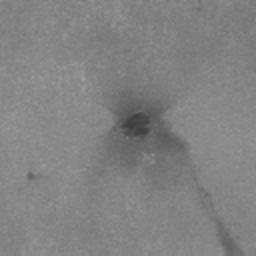Iron sheet ash: (118, 113, 154, 140)
